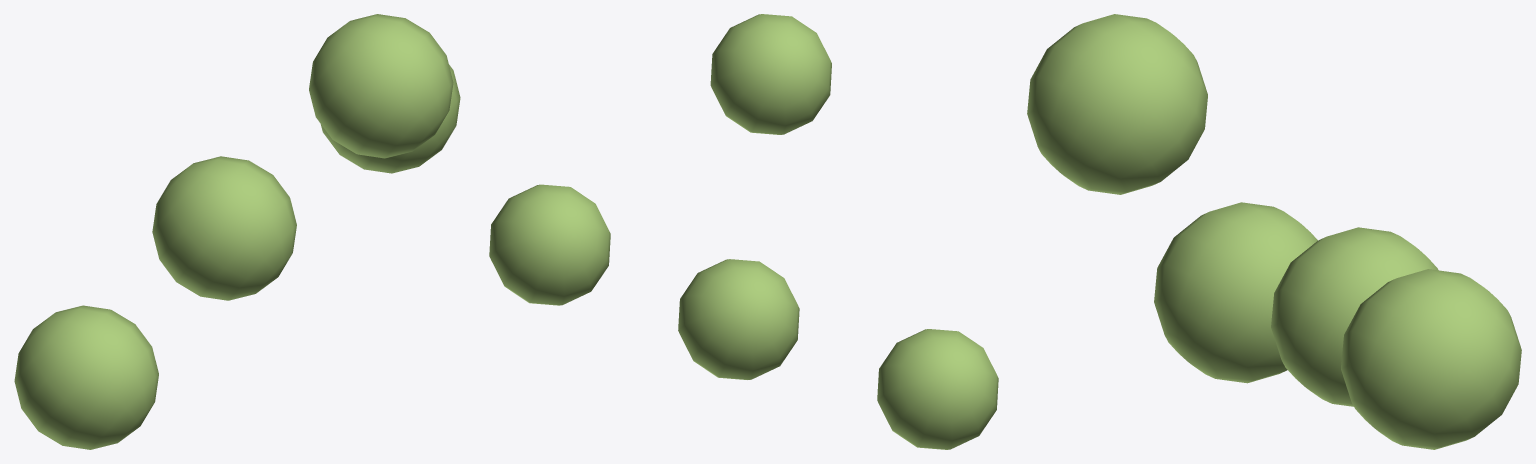
Rendered from inferior-deep-lateral-cervical-nodes-l.glb.
The picture shows the model from 3 angles, left to right: view 1: azimuth 30°, elevation 25°; view 2: azimuth 150°, elevation 25°; view 3: azimuth 270°, elevation 25°; orthographic projection. The views are drawn at different scales.
Parts seen in each view (by area): view 1: Inferior deep lateral cervical nodes.l; view 2: Inferior deep lateral cervical nodes.l; view 3: Inferior deep lateral cervical nodes.l.
Boxes of the visible parts, x1,y1,x2,y2 form: Inferior deep lateral cervical nodes.l: [14, 14, 460, 449]; Inferior deep lateral cervical nodes.l: [489, 14, 998, 449]; Inferior deep lateral cervical nodes.l: [1027, 14, 1521, 449].
Size of the model in its own units: 0.0104 by 0.00789 by 0.00707.
